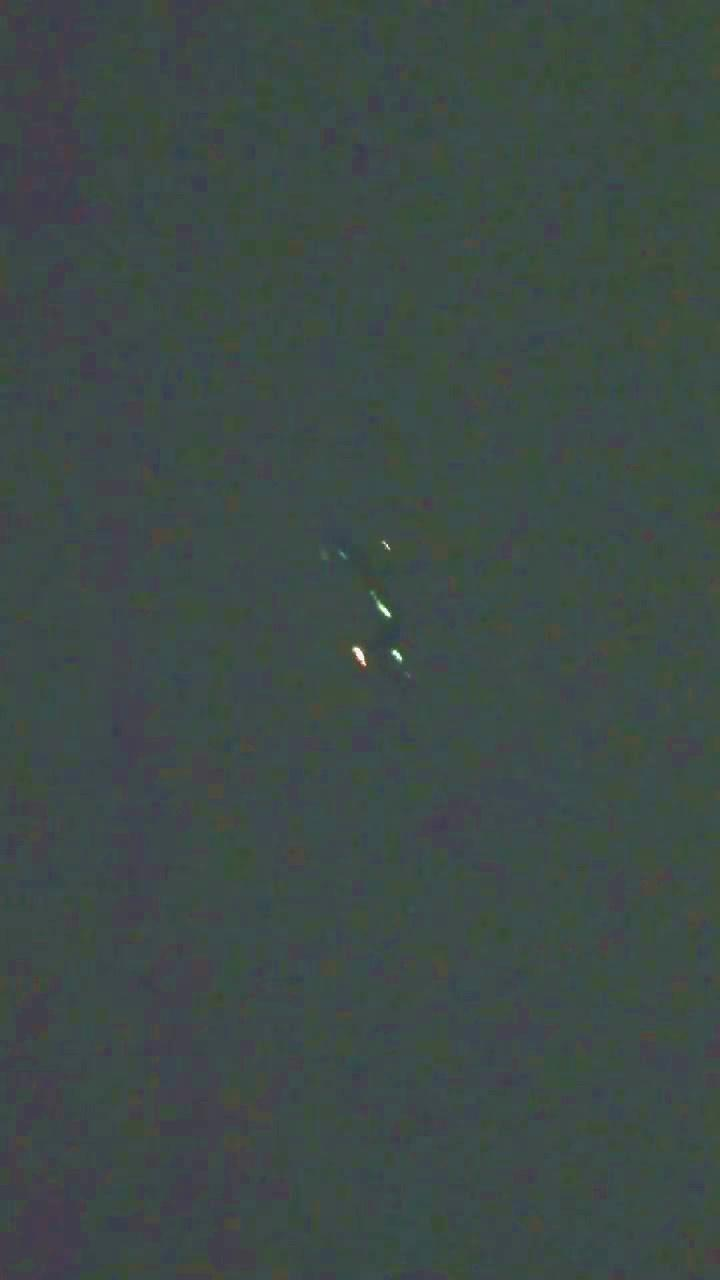Plane: (324, 570, 443, 697)
